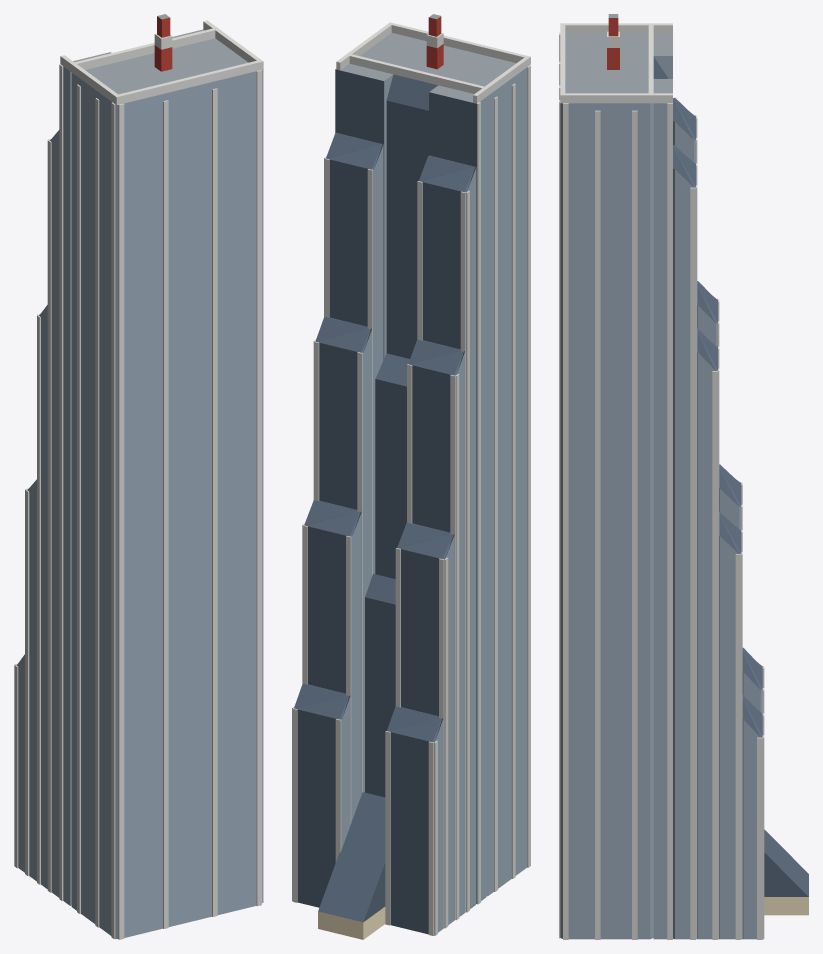
Rendered from seoul-trade-tower.glb.
The picture shows the model from 3 angles, left to right: view 1: azimuth 30°, elevation 25°; view 2: azimuth 150°, elevation 25°; view 3: azimuth 270°, elevation 25°; orthographic projection. The views are drawn at different scales.
Visible parts, largest first — view 1: Trade Tower; view 2: Trade Tower; view 3: Trade Tower.
Part boxes in pixels (x1,y1,x2,y2): Trade Tower: (14,14,263,939); Trade Tower: (292,14,530,939); Trade Tower: (559,14,808,939).
Size of the model in its own units: 42.7 by 242 by 61.75.
